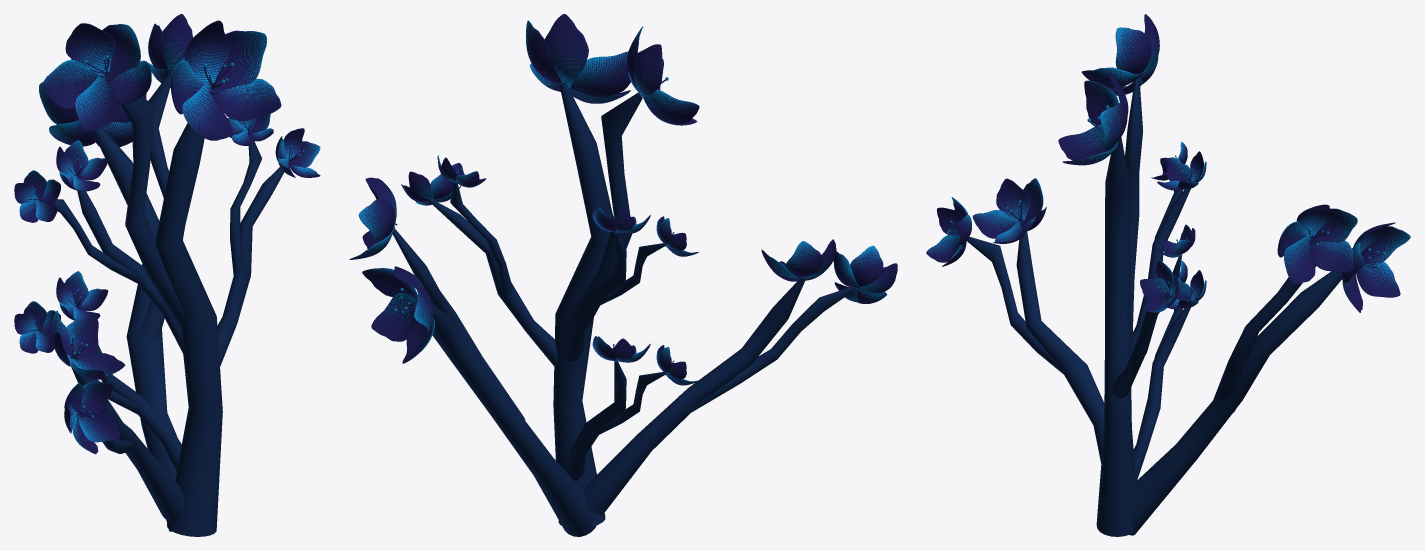
File: azalea.fbx
The picture shows the model from 3 angles, left to right: view 1: azimuth 30°, elevation 25°; view 2: azimuth 150°, elevation 25°; view 3: azimuth 270°, elevation 25°; orthographic projection. The views are drawn at different scales.
Parts seen in each view (by area): view 1: pCylinder22; view 2: pCylinder22; view 3: pCylinder22.
Boxes of the visible parts, box(x1,y1,x2,y2) form: pCylinder22: box(14, 14, 320, 536); pCylinder22: box(349, 14, 897, 536); pCylinder22: box(926, 14, 1410, 536).
Bounding box in the file's own units: 5.67 × 7.56 × 6.95.
